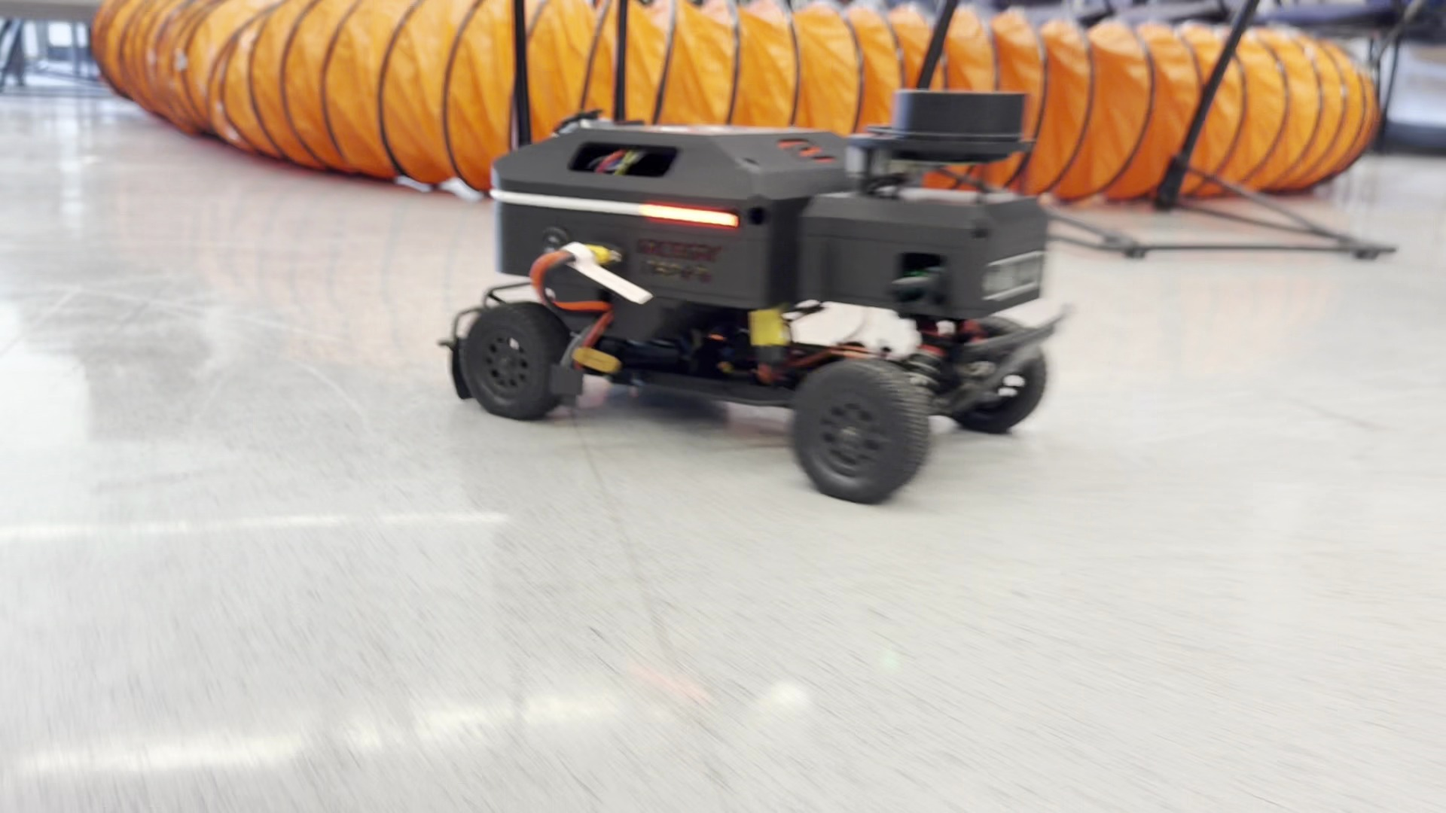racecar: (444, 135, 1059, 506)
